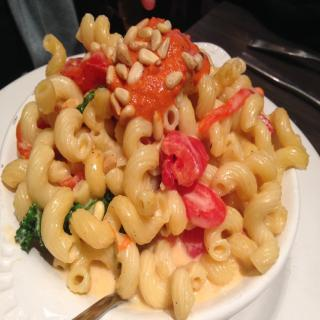Pasta: (1, 12, 309, 320)
